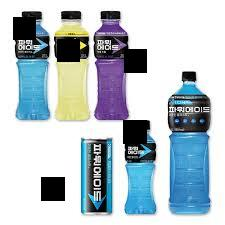powerade_mountainblast: (10, 9, 53, 122), (122, 116, 161, 216)
